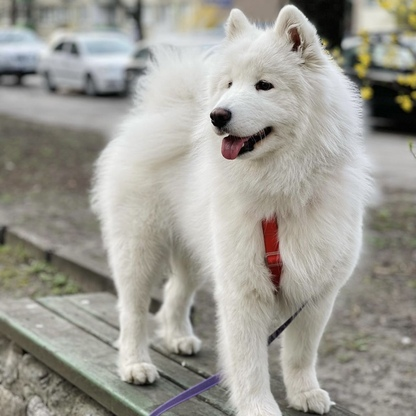samoyed: (82, 2, 384, 416)
